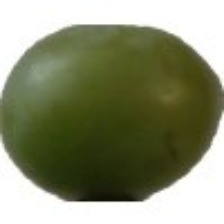grapes: (24, 6, 178, 174)
